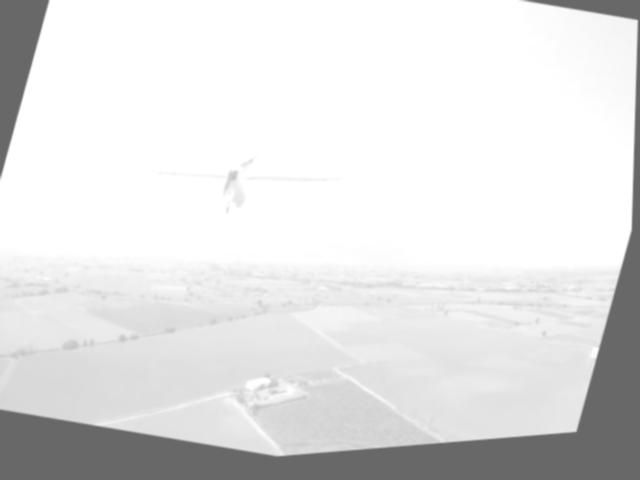hedef: (124, 97, 363, 263)
